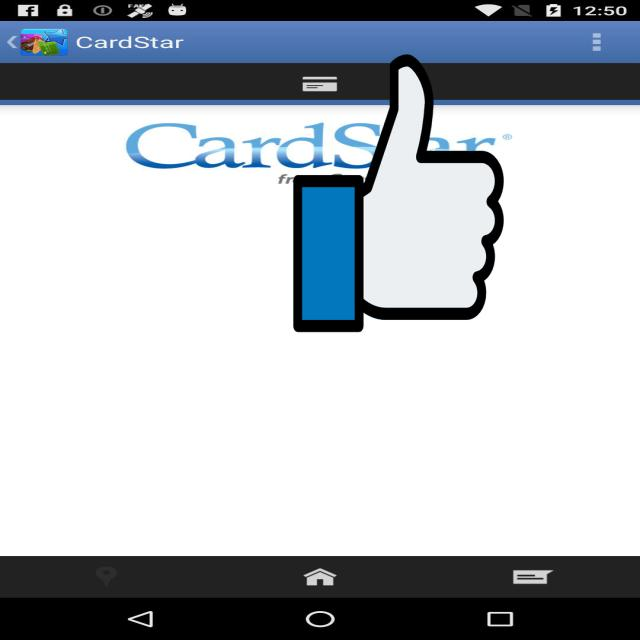privacy zuckering: (293, 48, 504, 338)
